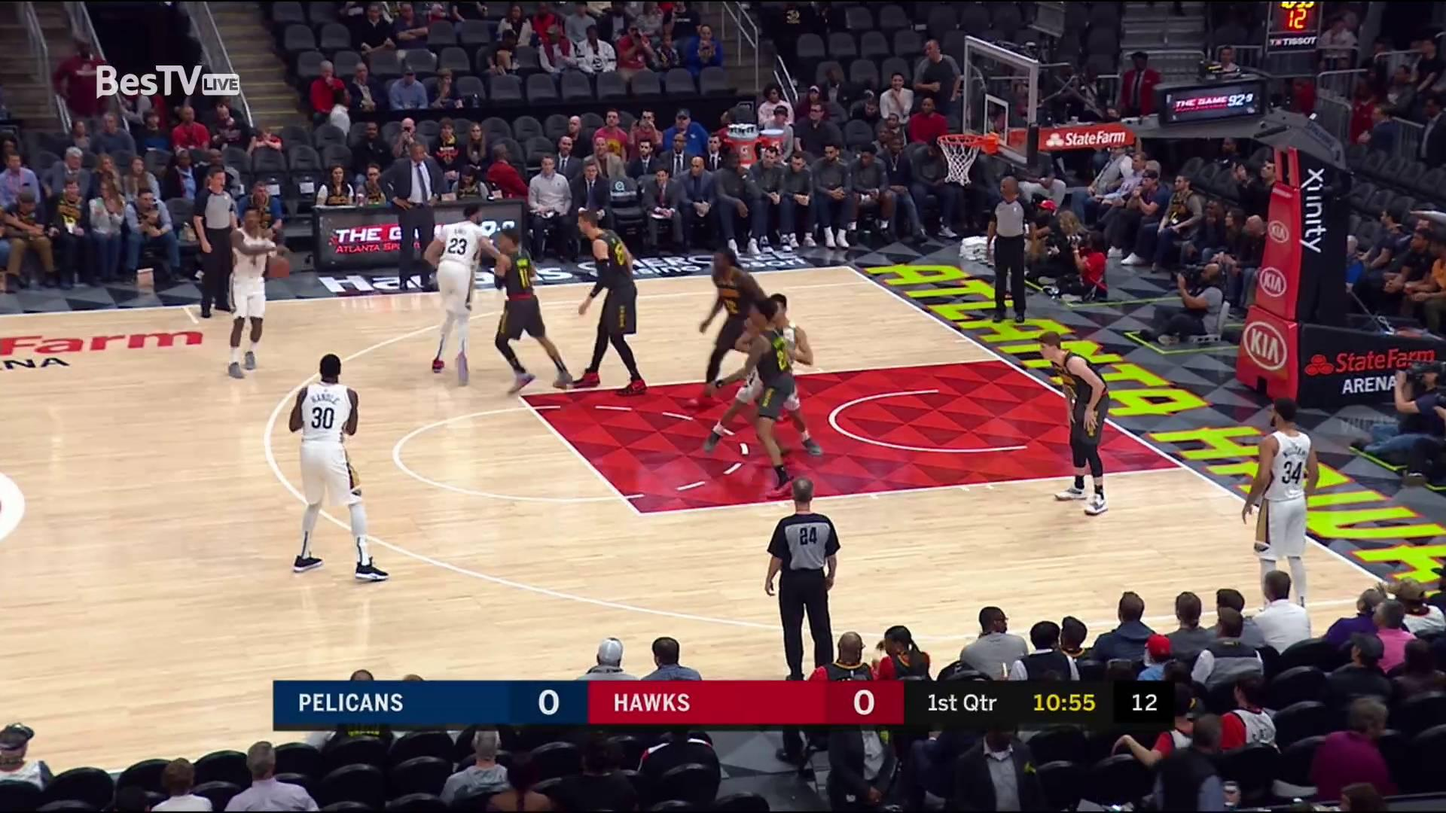basketball: (262, 255, 292, 285)
